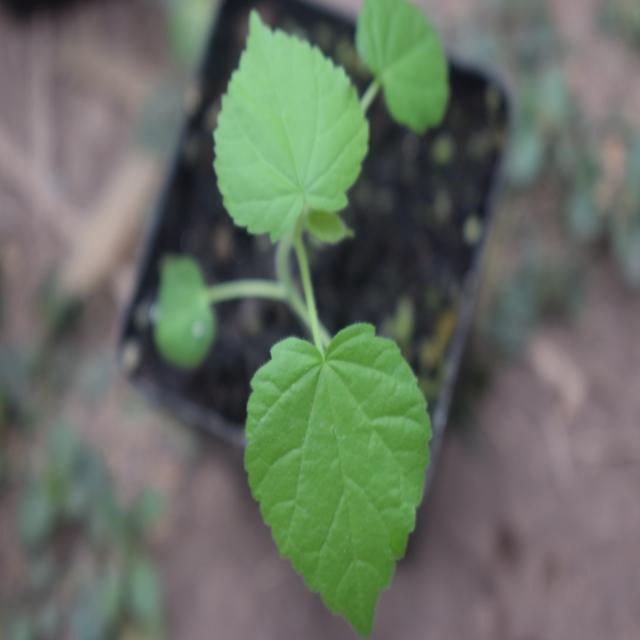abutilon theophrasti: (194, 11, 456, 595)
